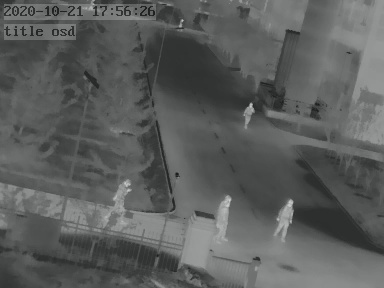person: (104, 177, 130, 221), (273, 195, 292, 239), (214, 196, 230, 242), (242, 101, 254, 129), (176, 17, 184, 31)
